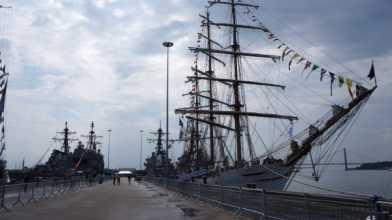fanchuan: (183, 1, 377, 183)
